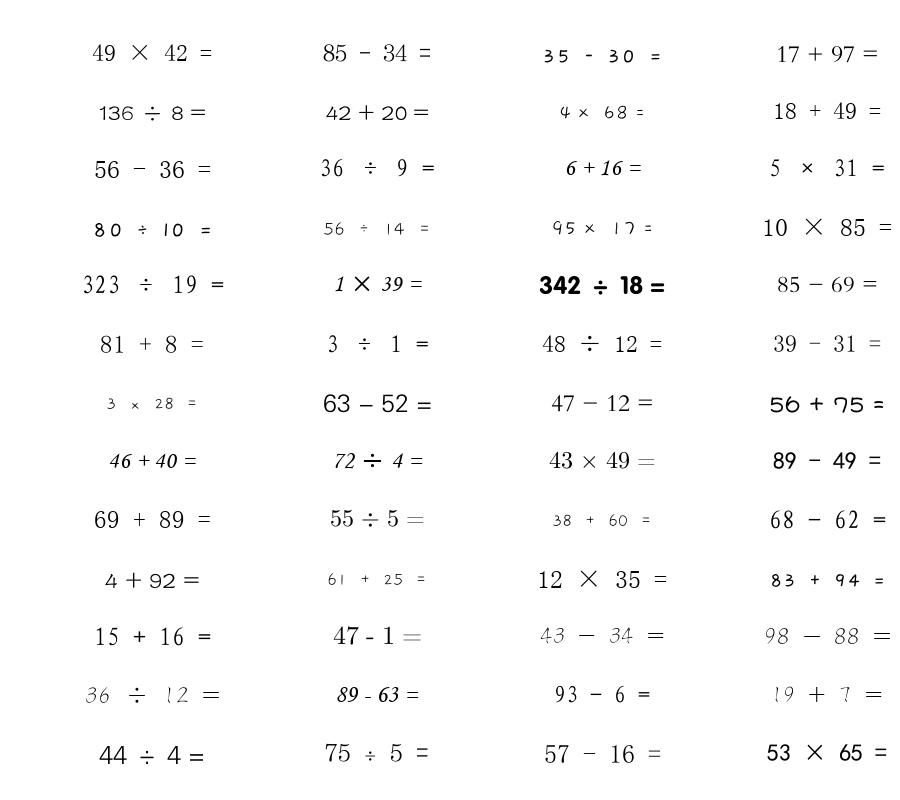MQ: (81, 275, 224, 294), (539, 275, 665, 295), (762, 218, 892, 236), (537, 570, 667, 588), (85, 687, 220, 704), (769, 510, 886, 529), (94, 627, 211, 646), (544, 744, 661, 763), (540, 627, 665, 644), (319, 159, 435, 177), (769, 159, 885, 177), (323, 394, 432, 413), (92, 44, 212, 61), (542, 335, 662, 352), (767, 744, 887, 761), (764, 628, 891, 644), (94, 161, 211, 178), (94, 511, 211, 528), (325, 743, 429, 762), (769, 396, 885, 413), (323, 44, 431, 62), (549, 451, 656, 469), (99, 746, 205, 764), (771, 686, 883, 703), (100, 335, 204, 353), (326, 335, 429, 353), (773, 102, 881, 119), (773, 335, 881, 352), (773, 452, 881, 469), (92, 222, 213, 237), (776, 46, 879, 63), (326, 104, 429, 121), (551, 395, 654, 412), (554, 685, 650, 703), (777, 276, 878, 293), (330, 509, 425, 527), (333, 626, 422, 645), (542, 49, 662, 63), (551, 220, 653, 236), (105, 572, 200, 589), (99, 106, 206, 121), (769, 574, 886, 587), (323, 222, 431, 236), (332, 453, 423, 469), (333, 276, 422, 292), (108, 453, 196, 468), (552, 514, 652, 527), (327, 573, 427, 586), (559, 105, 645, 120), (335, 687, 419, 702), (564, 160, 641, 176), (106, 397, 198, 410)
